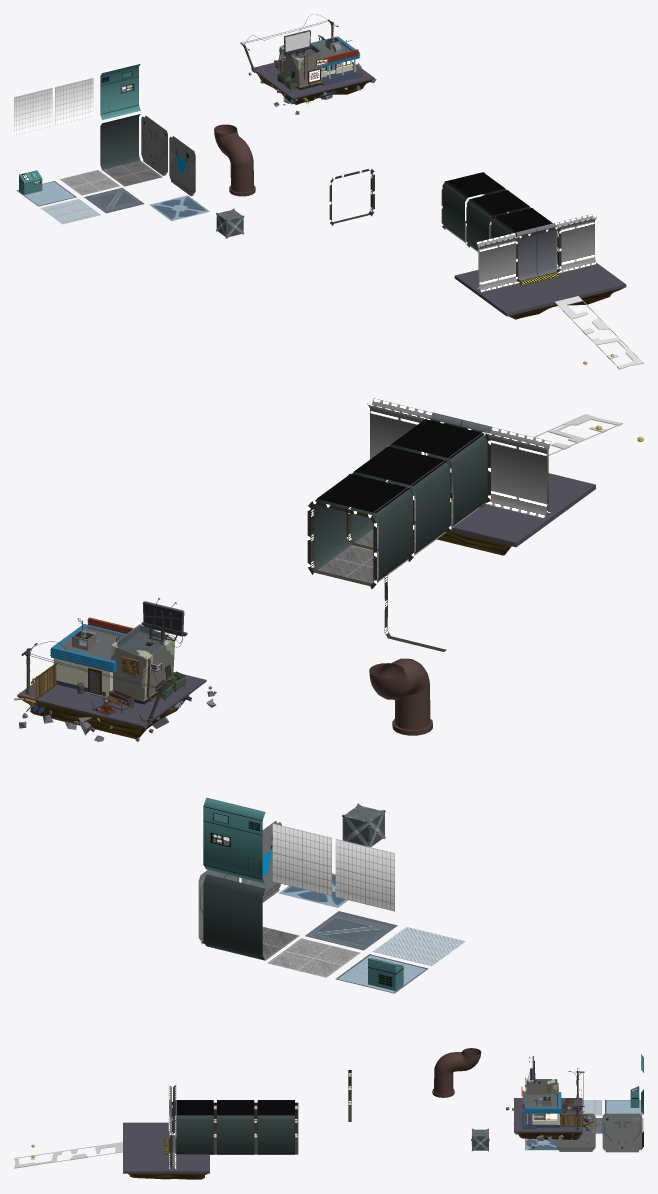
File: brugerjoint.glb
The picture shows the model from 3 angles, top to bottom: view 1: azimuth 30°, elevation 25°; view 2: azimuth 150°, elevation 25°; view 3: azimuth 270°, elevation 25°; orthographic projection. The views are drawn at different scales.
Visible parts, largest first — view 1: FloorCeilings_9, Doorways_Doorways_0.002, Object, Doors, Walls_6_Walls_Straight_0.006, Walls_6_Walls_Straight_0.010, Walls_6_Walls_Straight_0.009, pCylinder53_rust_metal_0.003, Walls_6_Walls_Straight_0.004, Walls_6_Walls_Straight_0.005, polySurface184, Walls_6_Walls_Straight_0.003 (+11 smaller); view 2: FloorCeilings_9, Doorways_Doorways_0.001, Walls_6_Walls_Straight_0.010, Walls_6_Walls_Straight_0.009, Object, Walls_6_Walls_Straight_0.005, Walls_6_Walls_Straight_0.004, pCylinder53_rust_metal_0.003, pCube3, polySurface184, Walls_6_Walls_Straight_0.001, Walls_6_Walls_Straight_0.013 (+13 smaller); view 3: Object, Doors, Walls_6_Walls_Straight_0.002, Walls_6_Walls_Straight_0.007, Walls_6_Walls_Straight_0.014, pCylinder53_rust_metal_0.003, FloorCeilings_9, polySurface184, pCube18, Ceiling_Straight_Material #27_0.001, Ceiling_Straight_Material #27_0.002, Ceiling_Straight_Material #27_0.003 (+6 smaller).
Boxes of the visible parts, x1,y1,x2,y2 form: FloorCeilings_9: (16, 170, 209, 224); Doorways_Doorways_0.002: (479, 217, 596, 292); Object: (454, 263, 626, 316); Doors: (141, 115, 195, 196); Walls_6_Walls_Straight_0.006: (516, 223, 557, 282); Walls_6_Walls_Straight_0.010: (100, 114, 140, 170); Walls_6_Walls_Straight_0.009: (100, 64, 140, 119); pCylinder53_rust_metal_0.003: (214, 124, 255, 196); Walls_6_Walls_Straight_0.004: (14, 88, 52, 135); Walls_6_Walls_Straight_0.005: (55, 78, 93, 125); polySurface184: (251, 61, 374, 99); Walls_6_Walls_Straight_0.003: (442, 181, 467, 242); FloorCeilings_9: (268, 873, 465, 993); Doorways_Doorways_0.001: (367, 403, 547, 518); Walls_6_Walls_Straight_0.010: (203, 874, 265, 960); Walls_6_Walls_Straight_0.009: (203, 797, 265, 883); Object: (450, 473, 595, 547); Walls_6_Walls_Straight_0.005: (272, 823, 331, 895); Walls_6_Walls_Straight_0.004: (335, 839, 394, 911); pCylinder53_rust_metal_0.003: (369, 658, 432, 735); pCube3: (111, 624, 175, 700); polySurface184: (17, 672, 206, 727); Walls_6_Walls_Straight_0.001: (411, 460, 450, 553); Walls_6_Walls_Straight_0.013: (448, 432, 487, 526); Object: (123, 1122, 209, 1173); Doors: (556, 1113, 641, 1152); Walls_6_Walls_Straight_0.002: (217, 1115, 254, 1154); Walls_6_Walls_Straight_0.007: (257, 1115, 294, 1154); Walls_6_Walls_Straight_0.014: (176, 1115, 213, 1154); pCylinder53_rust_metal_0.003: (432, 1048, 481, 1097); FloorCeilings_9: (525, 1100, 643, 1150); polySurface184: (514, 1098, 582, 1132); pCube18: (524, 1092, 560, 1113); Ceiling_Straight_Material #27_0.001: (176, 1100, 213, 1115); Ceiling_Straight_Material #27_0.002: (217, 1100, 254, 1115); Ceiling_Straight_Material #27_0.003: (257, 1100, 294, 1115).
Bounding box in the file's own units: 112 × 55.19 × 244.
Materials: 82 (7 with a texture image).
